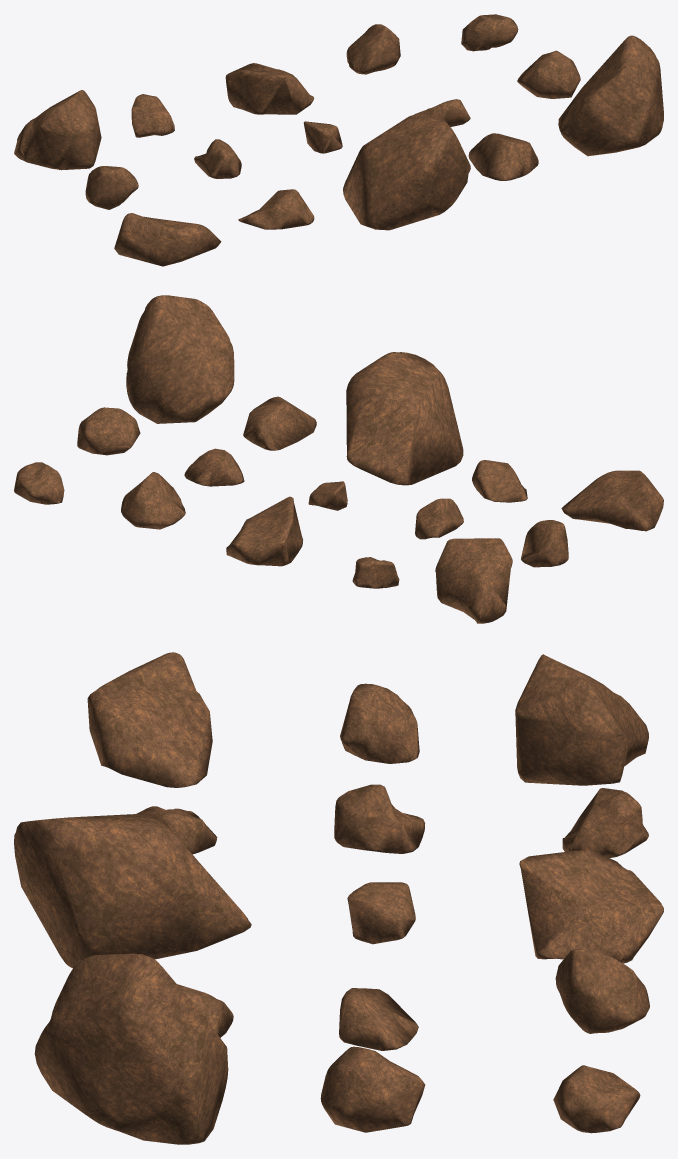
Rendered from mars_rocks.glb.
3 renders of one model, top to bottom at view 1: azimuth 30°, elevation 25°; view 2: azimuth 150°, elevation 25°; view 3: azimuth 270°, elevation 25°, orthographic. The views are drawn at different scales.
Parts seen in each view (by area): view 1: Mars_rock.013, Mars_rock.011, Mars_rock.005, Mars_rock.015, Mars_rock.003, Mars_rock.012, Mars_rock.006, Mars_rock.002, Mars_rock.014, Mars_rock.010, Mars_rock.001, Mars_rock.004 (+3 smaller); view 2: Mars_rock.013, Mars_rock.011, Mars_rock.005, Mars_rock.015, Mars_rock.003, Mars_rock.012, Mars_rock.002, Mars_rock.006, Mars_rock.010, Mars_rock.014, Mars_rock.001, Mars_rock.007 (+3 smaller); view 3: Mars_rock.011, Mars_rock.013, Mars_rock.005, Mars_rock.015, Mars_rock.003, Mars_rock.006, Mars_rock.002, Mars_rock.010, Mars_rock.009, Mars_rock.001, Mars_rock.004, Mars_rock.007 (+3 smaller).
Part boxes in pixels (x1,y1,x2,y2): Mars_rock.013: [343, 115, 470, 230]; Mars_rock.011: [558, 35, 663, 156]; Mars_rock.005: [14, 90, 101, 170]; Mars_rock.015: [114, 213, 221, 266]; Mars_rock.003: [225, 63, 314, 114]; Mars_rock.012: [468, 133, 538, 180]; Mars_rock.006: [517, 50, 580, 98]; Mars_rock.002: [346, 24, 400, 74]; Mars_rock.014: [238, 189, 314, 229]; Mars_rock.010: [85, 166, 138, 209]; Mars_rock.001: [461, 14, 518, 51]; Mars_rock.004: [131, 94, 174, 137]; Mars_rock.013: [346, 352, 463, 485]; Mars_rock.011: [126, 295, 234, 423]; Mars_rock.005: [435, 538, 512, 623]; Mars_rock.015: [561, 470, 663, 531]; Mars_rock.003: [226, 496, 302, 566]; Mars_rock.012: [243, 396, 316, 450]; Mars_rock.002: [121, 472, 185, 529]; Mars_rock.006: [77, 407, 140, 455]; Mars_rock.010: [521, 520, 568, 567]; Mars_rock.014: [472, 460, 527, 502]; Mars_rock.001: [14, 462, 64, 504]; Mars_rock.007: [184, 448, 244, 486]; Mars_rock.011: [34, 953, 228, 1144]; Mars_rock.013: [14, 813, 251, 967]; Mars_rock.005: [515, 654, 648, 785]; Mars_rock.015: [87, 652, 212, 787]; Mars_rock.003: [519, 850, 663, 963]; Mars_rock.006: [320, 1046, 425, 1132]; Mars_rock.002: [555, 949, 649, 1033]; Mars_rock.010: [340, 683, 419, 763]; Mars_rock.009: [334, 784, 425, 853]; Mars_rock.001: [553, 1065, 640, 1133]; Mars_rock.004: [562, 788, 648, 857]; Mars_rock.007: [339, 988, 418, 1050].
Size of the model in its own units: 14.41 by 2.93 by 8.94.
Materials: 1 (1 with a texture image).
